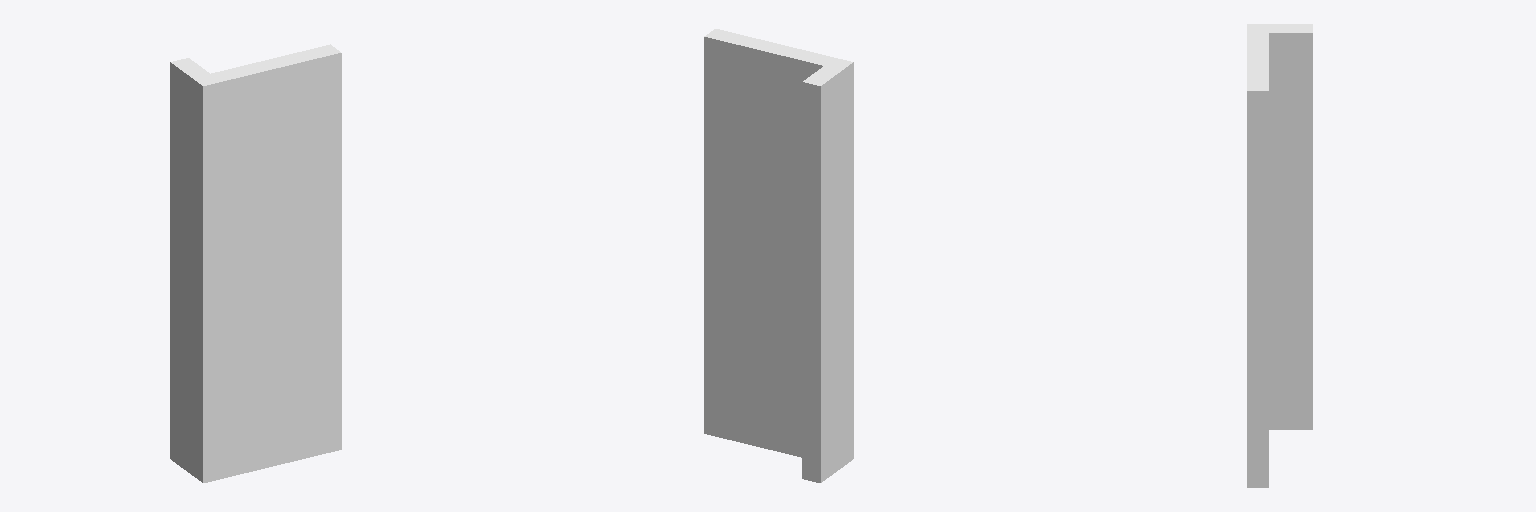
Rendered from Wall_4.obj.
3 renders of one model, left to right at view 1: azimuth 30°, elevation 25°; view 2: azimuth 150°, elevation 25°; view 3: azimuth 270°, elevation 25°, orthographic.
Visible parts, largest first — view 1: Mesh38_Group30_Model; view 2: Mesh38_Group30_Model; view 3: Mesh38_Group30_Model.
Boxes of the visible parts, x1,y1,x2,y2 form: Mesh38_Group30_Model: [170, 44, 341, 482]; Mesh38_Group30_Model: [704, 29, 853, 482]; Mesh38_Group30_Model: [1247, 24, 1312, 487].
Bounding box in the file's own units: 29.5 × 81 × 12.19.